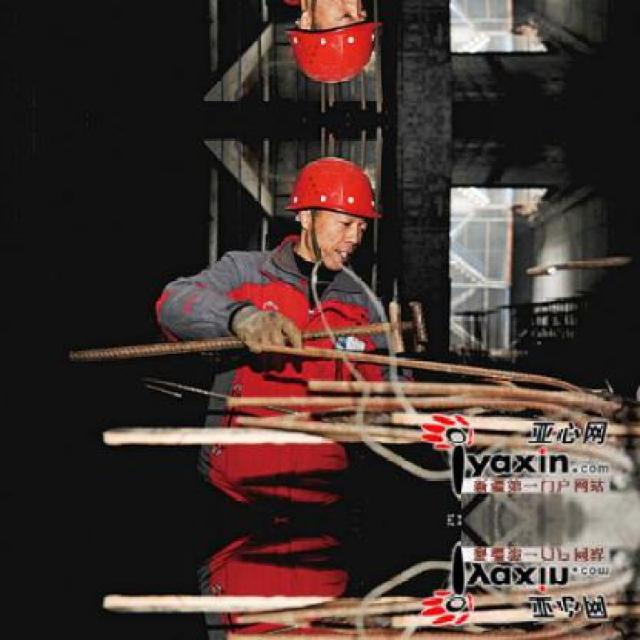helmet: (280, 145, 386, 264), (278, 0, 386, 92)
